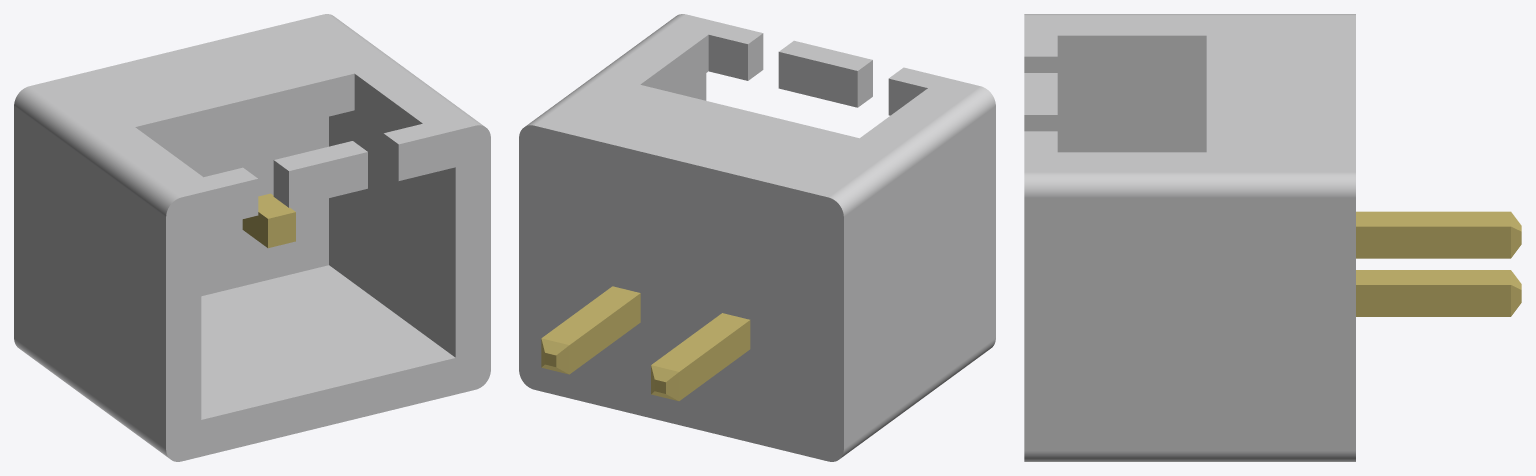
File: jst_xh_2pin.glb
The picture shows the model from 3 angles, left to right: view 1: azimuth 30°, elevation 25°; view 2: azimuth 150°, elevation 25°; view 3: azimuth 270°, elevation 25°; orthographic projection. The views are drawn at different scales.
Parts seen in each view (by area): view 1: world; view 2: world; view 3: world.
Boxes of the visible parts, x1,y1,x2,y2 form: world: (14, 14, 490, 461); world: (519, 14, 995, 461); world: (1024, 14, 1521, 461).
Bounding box in the file's own units: 7.4 × 5.75 × 9.
